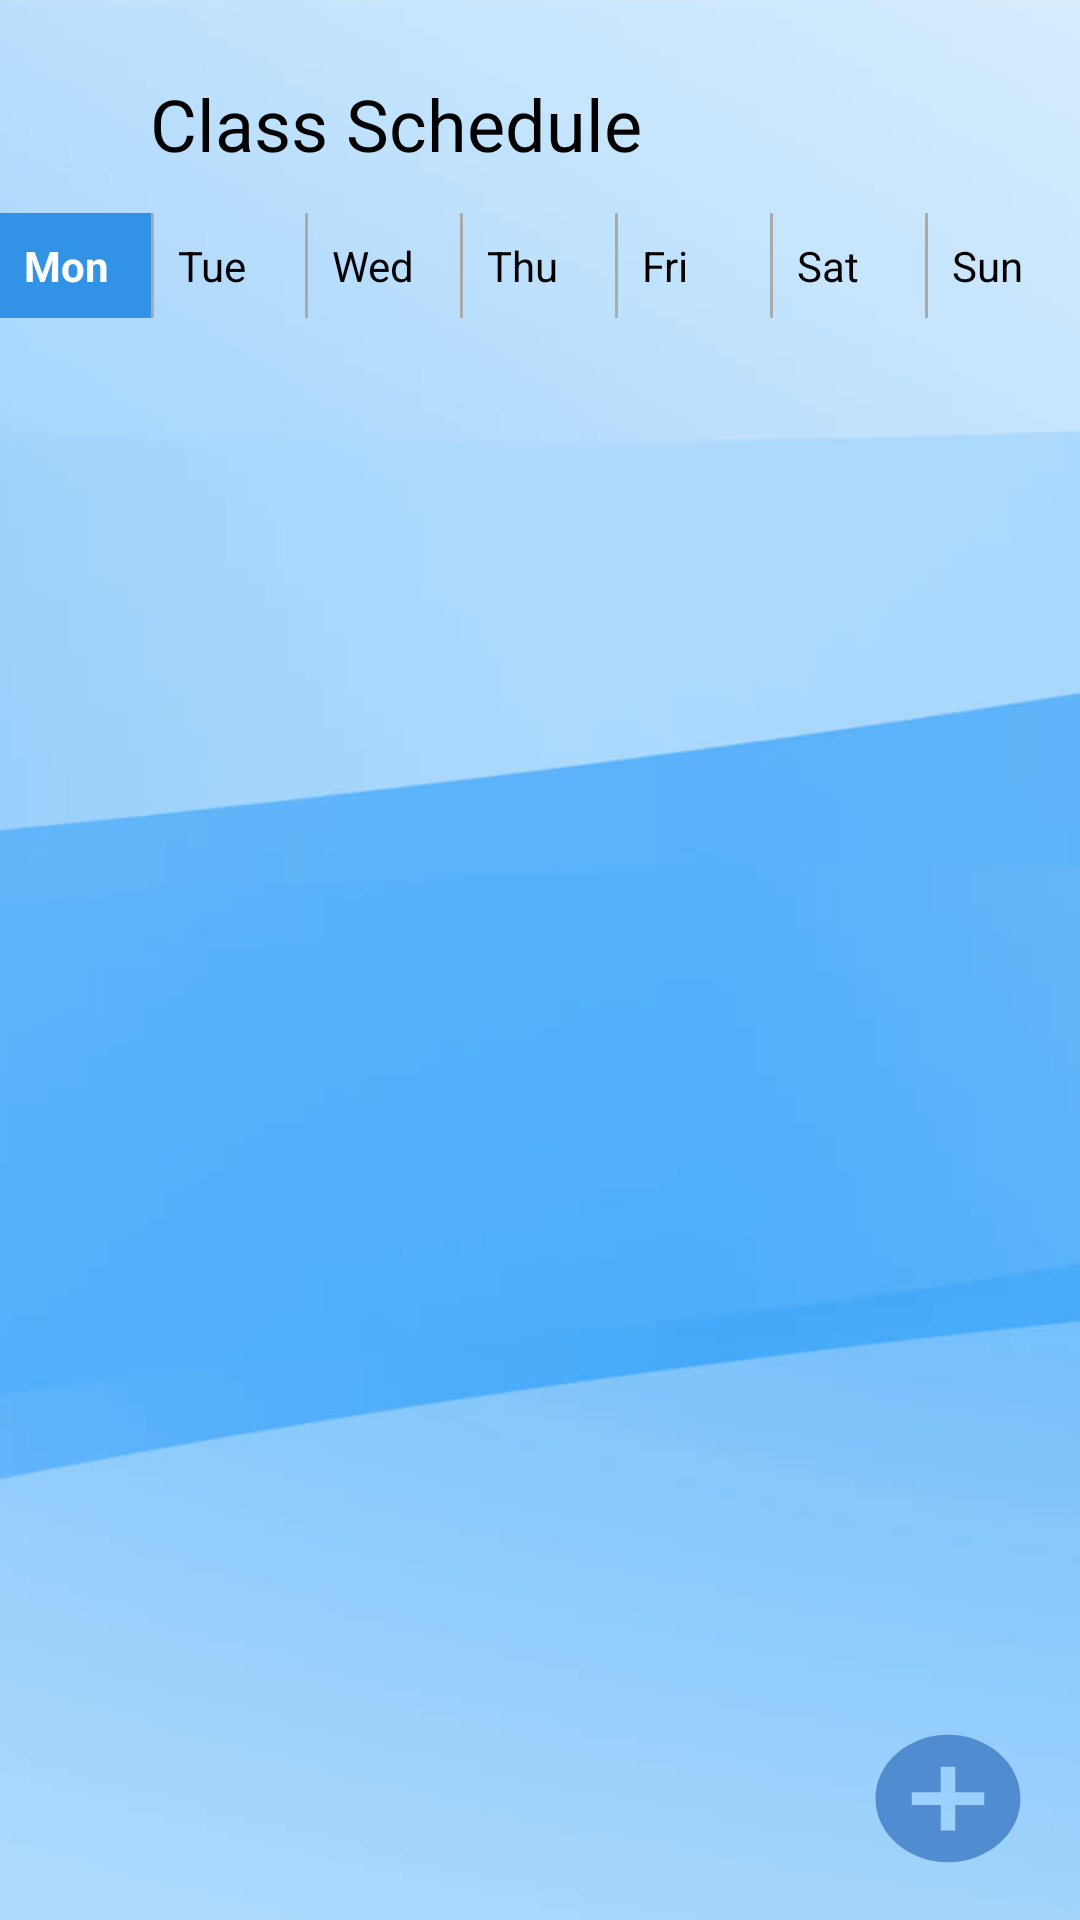

Icon click points for this 1080×1920 phone screenshot, format point (x, y):
addentry: point (948, 1798)
